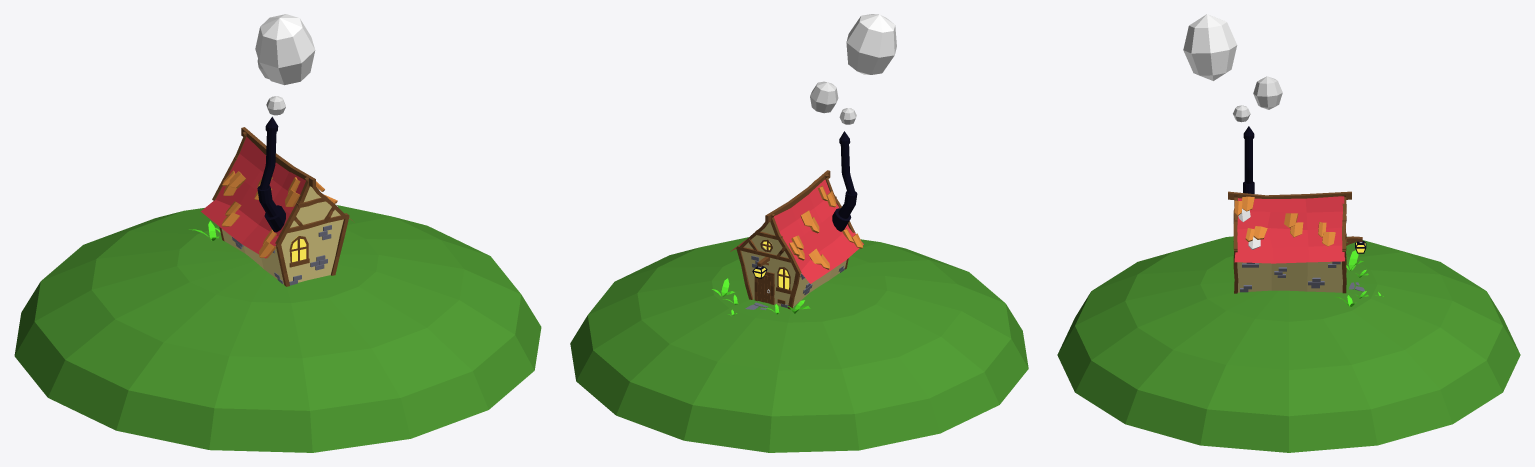
The model's file is cottage.glb.
The picture shows the model from 3 angles, left to right: view 1: azimuth 30°, elevation 25°; view 2: azimuth 150°, elevation 25°; view 3: azimuth 270°, elevation 25°; orthographic projection. The views are drawn at different scales.
Visible parts, largest first — view 1: Sphere, Plane.003, Sphere.001, Plane.005, Cylinder, Plane.002, Cube.022; view 2: Sphere, Plane.003, Sphere.001, Plane.004, Cylinder, Sphere.003, Plane.002, Cube.022; view 3: Sphere, Plane, Plane.001, Sphere.001, Sphere.003, Cube.022, Cylinder.
Part boxes in pixels (x1=…): Sphere: x1=14, y1=205, x2=541, y2=452; Plane.003: x1=201, y1=137, x2=305, y2=258; Sphere.001: x1=255, y1=14, x2=315, y2=85; Plane.005: x1=281, y1=186, x2=343, y2=282; Cylinder: x1=257, y1=116, x2=285, y2=232; Plane.002: x1=221, y1=229, x2=283, y2=284; Cube.022: x1=241, y1=127, x2=315, y2=187; Sphere: x1=570, y1=237, x2=1028, y2=452; Plane.003: x1=774, y1=179, x2=863, y2=283; Sphere.001: x1=846, y1=14, x2=896, y2=74; Plane.004: x1=741, y1=222, x2=795, y2=305; Cylinder: x1=832, y1=131, x2=857, y2=231; Sphere.003: x1=810, y1=81, x2=838, y2=113; Plane.002: x1=793, y1=260, x2=846, y2=306; Cube.022: x1=765, y1=170, x2=830, y2=222; Sphere: x1=1057, y1=236, x2=1520, y2=452; Plane: x1=1234, y1=196, x2=1344, y2=263; Plane.001: x1=1237, y1=261, x2=1342, y2=292; Sphere.001: x1=1183, y1=14, x2=1237, y2=80; Sphere.003: x1=1253, y1=76, x2=1282, y2=109; Cube.022: x1=1228, y1=191, x2=1351, y2=199; Cylinder: x1=1243, y1=126, x2=1254, y2=193.
Size of the model in its own units: 17.08 by 13.09 by 17.08.
